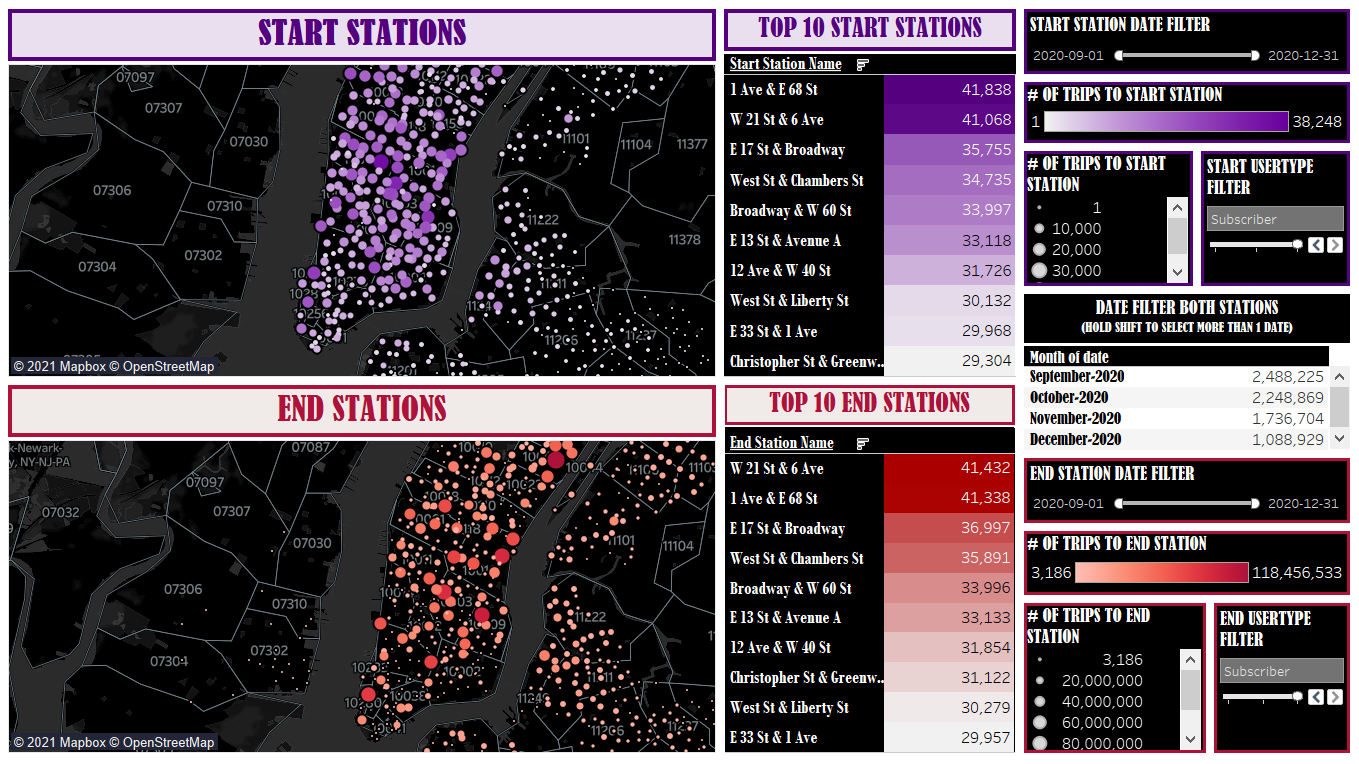

This screenshot's page, from the dashboard's own definition file:
{"tool":"tableau","page":{"name":"Dashboard 1-Stations Map","canvas":[1366,768],"ordinal":2},"visuals":[{"type":"worksheet","box":[0,0,1366,768]},{"type":"worksheet","param":"horz","box":[8,8,1350,752]},{"type":"worksheet","param":"horz","box":[8,8,1350,752]},{"type":"worksheet","box":[8,8,1016,752]},{"type":"worksheet","title":"D1.Start_Map","mark":"Automatic","rows":["start station latitude"],"cols":["start station longitude"],"box":[8,8,716.5,376]},{"type":"worksheet","title":"D1.Top10_Start","mark":"Square","rows":["start station name"],"box":[724.5,8,299.5,376]},{"type":"worksheet","box":[1024,8,334,752]},{"type":"worksheet","title":"D1.Start_Map","mark":"Automatic","rows":["start station latitude"],"cols":["start station longitude"],"param":"[federated.1l2b23d1flpult17ttkdf0ii0clc].[none:date:qk]","box":[1024,8,334,73]},{"type":"worksheet","title":"D1.Start_Map","mark":"Automatic","rows":["start station latitude"],"cols":["start station longitude"],"param":"[federated.1l2b23d1flpult17ttkdf0ii0clc].[cnt:start station id:qk]","box":[1024,81,334,69]},{"type":"worksheet","title":"D1.Start_Map","mark":"Automatic","rows":["start station latitude"],"cols":["start station longitude"],"param":"[federated.1l2b23d1flpult17ttkdf0ii0clc].[cnt:start station id:qk]","box":[1024,150,177,143]},{"type":"worksheet","title":"D1.Start_Map","mark":"Automatic","rows":["start station latitude"],"cols":["start station longitude"],"param":"[federated.1l2b23d1flpult17ttkdf0ii0clc].[none:usertype:nk]","box":[1201,150,157,143]},{"type":"worksheet","title":"D1.Date","mark":"Automatic","rows":["date"],"box":[1024,293,334,164]},{"type":"worksheet","title":"D1.End_Map","mark":"Automatic","rows":["end station latitude"],"cols":["end station longitude"],"box":[8,384,716.5,376]},{"type":"worksheet","title":"D1.Top10_End","mark":"Square","rows":["end station name"],"box":[724.5,384,299.5,376]},{"type":"worksheet","title":"D1.End_Map","mark":"Automatic","rows":["end station latitude"],"cols":["end station longitude"],"param":"[federated.1l2b23d1flpult17ttkdf0ii0clc].[none:date:qk]","box":[1024,457,334,73]},{"type":"worksheet","title":"D1.End_Map","mark":"Automatic","rows":["end station latitude"],"cols":["end station longitude"],"param":"[federated.1l2b23d1flpult17ttkdf0ii0clc].[sum:end station id:qk]","box":[1024,530,334,72]},{"type":"worksheet","title":"D1.End_Map","mark":"Automatic","rows":["end station latitude"],"cols":["end station longitude"],"param":"[federated.1l2b23d1flpult17ttkdf0ii0clc].[sum:end station id:qk]","box":[1024,602,190,158]},{"type":"worksheet","title":"D1.End_Map","mark":"Automatic","rows":["end station latitude"],"cols":["end station longitude"],"param":"[federated.1l2b23d1flpult17ttkdf0ii0clc].[none:usertype:nk]","box":[1214,602,144,158]}]}

Visuals, with their boxes in screenshot pixels (x1, y1, x2, y2), scaled from the page's 1366x768 canvas onto the 1359x764 screenshot:
worksheet: BBox(0, 0, 1358, 763)
worksheet: BBox(8, 8, 1351, 756)
worksheet: BBox(8, 8, 1351, 756)
worksheet: BBox(8, 8, 1019, 756)
"D1.Start_Map" worksheet: BBox(8, 8, 721, 382)
"D1.Top10_Start" worksheet (Square marks): BBox(721, 8, 1019, 382)
worksheet: BBox(1019, 8, 1351, 756)
"D1.Start_Map" worksheet: BBox(1019, 8, 1351, 81)
"D1.Start_Map" worksheet: BBox(1019, 81, 1351, 149)
"D1.Start_Map" worksheet: BBox(1019, 149, 1195, 291)
"D1.Start_Map" worksheet: BBox(1195, 149, 1351, 291)
"D1.Date" worksheet: BBox(1019, 291, 1351, 455)
"D1.End_Map" worksheet: BBox(8, 382, 721, 756)
"D1.Top10_End" worksheet (Square marks): BBox(721, 382, 1019, 756)
"D1.End_Map" worksheet: BBox(1019, 455, 1351, 527)
"D1.End_Map" worksheet: BBox(1019, 527, 1351, 599)
"D1.End_Map" worksheet: BBox(1019, 599, 1208, 756)
"D1.End_Map" worksheet: BBox(1208, 599, 1351, 756)
